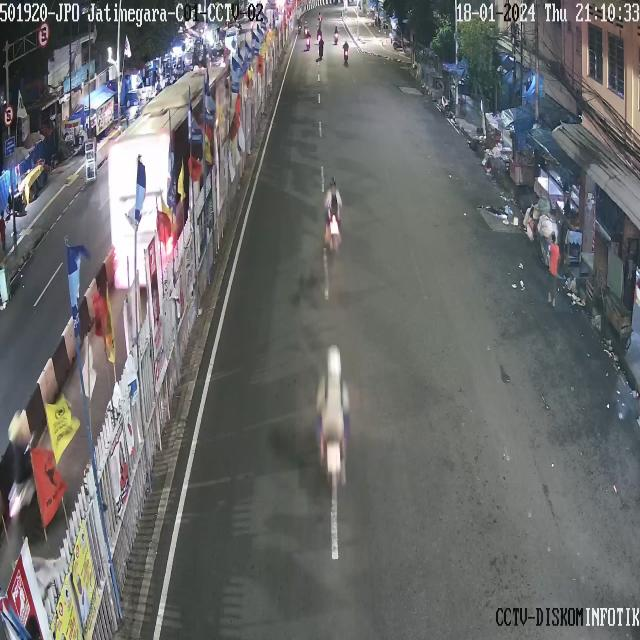Terpal: (120, 81, 135, 104), (91, 84, 109, 102)
